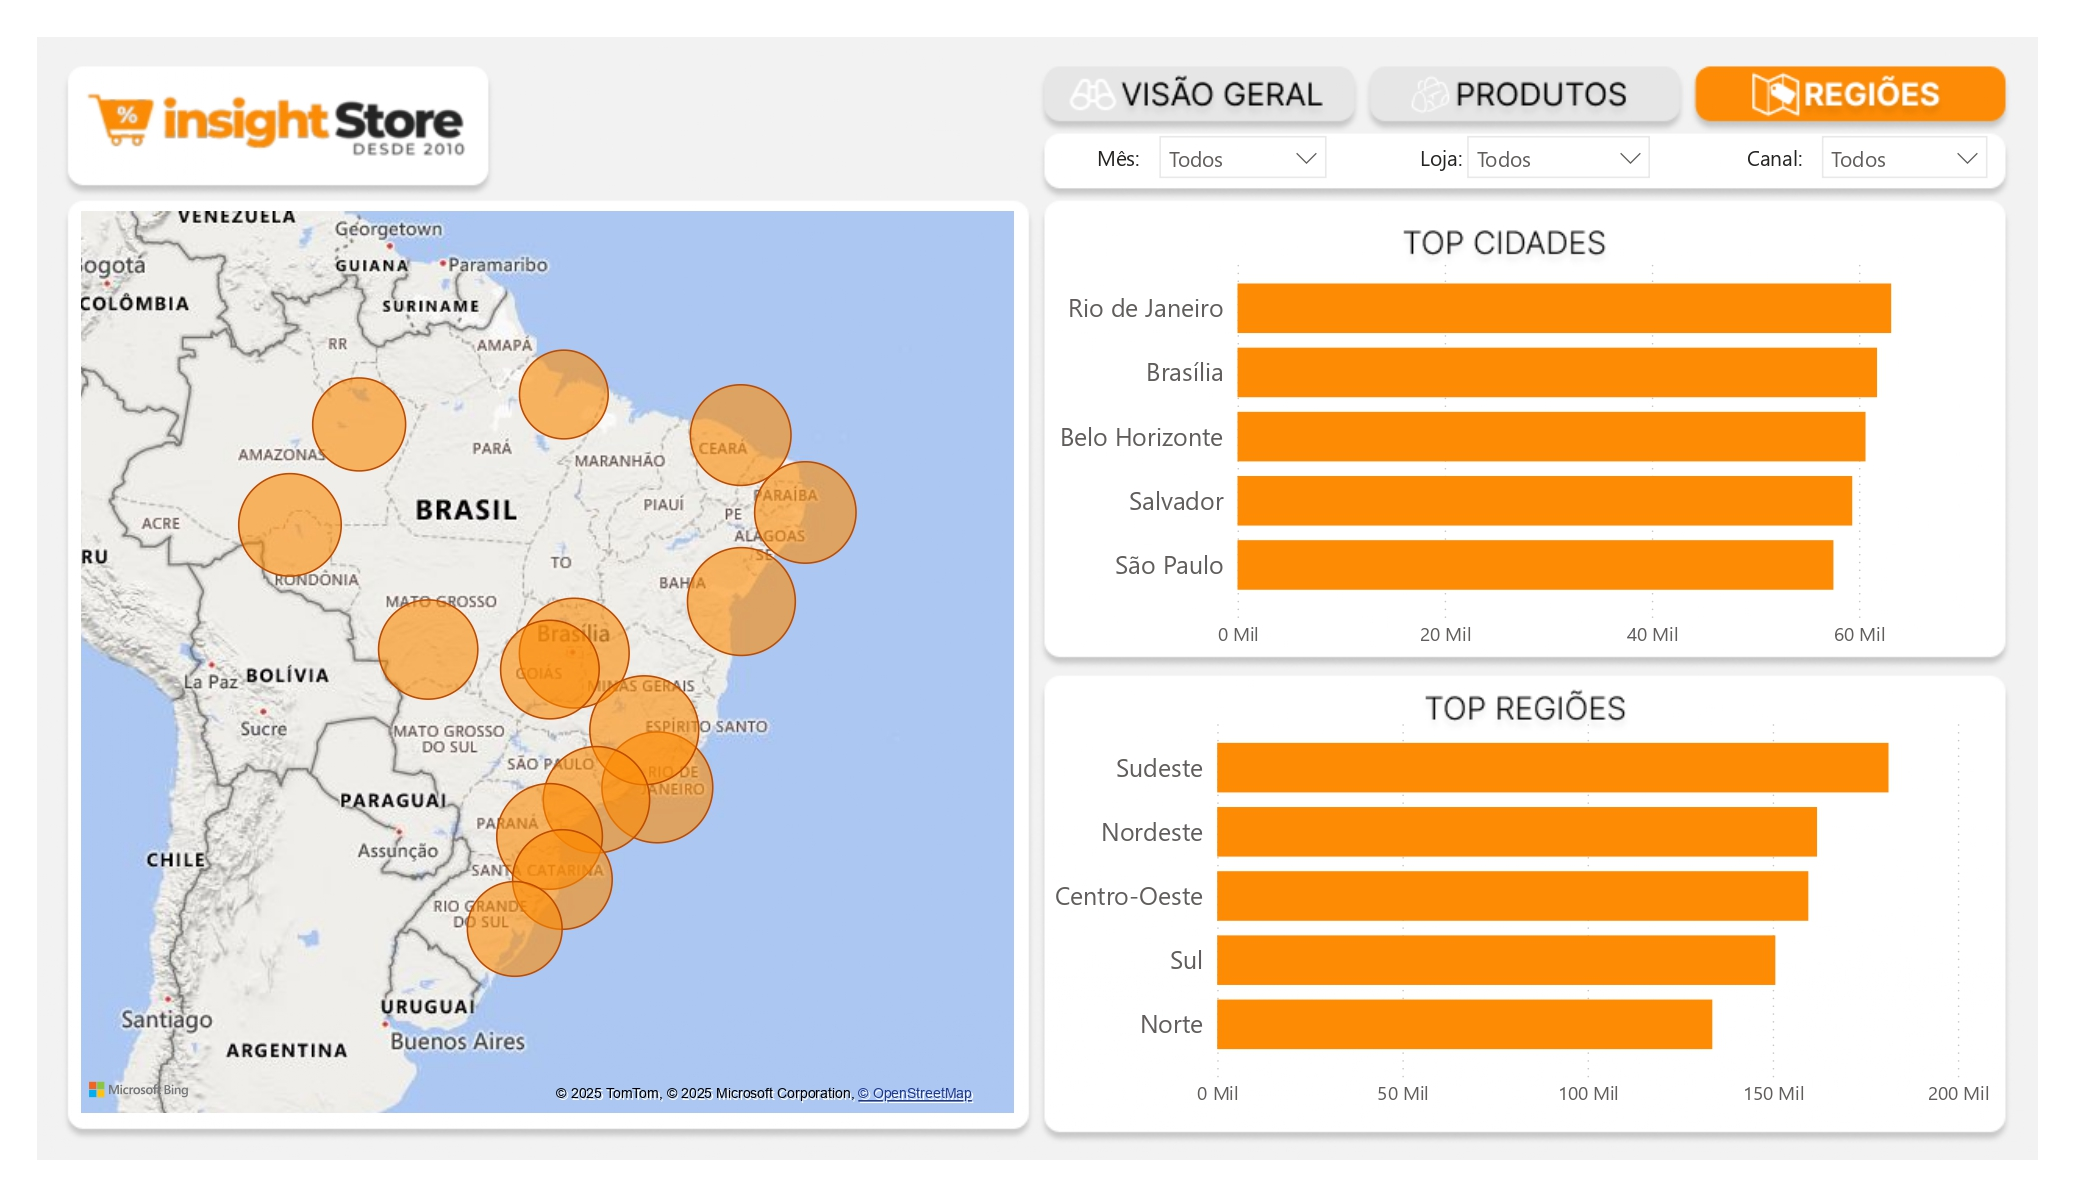

What the dashboard file says about the page in this screenshot:
{"tool":"powerbi","page":{"name":"REGIÕES","canvas":[1280,720],"ordinal":2},"visuals":[{"type":"map","fields":{"Category":["vendas_ficticias_lojas_brasil123.store_city"],"Size":["Tabela_Medidas.Total_faturado"]},"box":[23,106,607,587],"z":0},{"type":"barChart","fields":{"Category":["vendas_ficticias_lojas_brasil123.store_region"],"Y":["Tabela_Medidas.Total_faturado"]},"box":[640,422,614,272],"z":1000},{"type":"barChart","fields":{"Category":["vendas_ficticias_lojas_brasil123.store_city"],"Y":["Tabela_Medidas.Total_faturado"]},"box":[640,128,614,272],"z":2000},{"type":"textbox","box":[673,63,107,34],"z":3000},{"type":"textbox","box":[880.4,62.8,47.5,30.6],"z":4000},{"type":"textbox","box":[1088.6,62.8,56.7,39.8],"z":5000},{"type":"slicer","fields":{"Values":["vendas_ficticias_lojas_brasil123.sales_channel"]},"box":[1131.7,53.3,126.7,48.3],"z":6000},{"type":"slicer","fields":{"Values":["vendas_ficticias_lojas_brasil123.store_city"]},"box":[905,53.3,136.7,48.3],"z":7000},{"type":"slicer","fields":{"Values":["vendas_ficticias_lojas_brasil123.order_date.Variation.Hierarquia de datas.Mês"]},"box":[708.3,53.3,126.7,48.3],"z":8000},{"type":"actionButton","box":[640,13.3,206.7,40],"z":9000},{"type":"actionButton","box":[856.7,13.3,185,40],"z":10000}]}

Visuals, with their boxes on the page's 1280x720 design canvas (x1, y1, x2, y2). These are canvas units, not pixel positions in the 2075x1200 screenshot, which may show the page scaled, cropped or inside an application window:
map - vendas_ficticias_lojas_brasil123.store_city x Tabela_Medidas.Total_faturado: x1=23, y1=106, x2=630, y2=693
barChart - vendas_ficticias_lojas_brasil123.store_region x Tabela_Medidas.Total_faturado: x1=640, y1=422, x2=1254, y2=694
barChart - vendas_ficticias_lojas_brasil123.store_city x Tabela_Medidas.Total_faturado: x1=640, y1=128, x2=1254, y2=400
textbox: x1=673, y1=63, x2=780, y2=97
textbox: x1=880, y1=63, x2=928, y2=93
textbox: x1=1089, y1=63, x2=1145, y2=103
slicer - vendas_ficticias_lojas_brasil123.sales_channel: x1=1132, y1=53, x2=1258, y2=102
slicer - vendas_ficticias_lojas_brasil123.store_city: x1=905, y1=53, x2=1042, y2=102
slicer - vendas_ficticias_lojas_brasil123.order_date.Variation.Hierarquia de datas.Mês: x1=708, y1=53, x2=835, y2=102
actionButton: x1=640, y1=13, x2=847, y2=53
actionButton: x1=857, y1=13, x2=1042, y2=53
